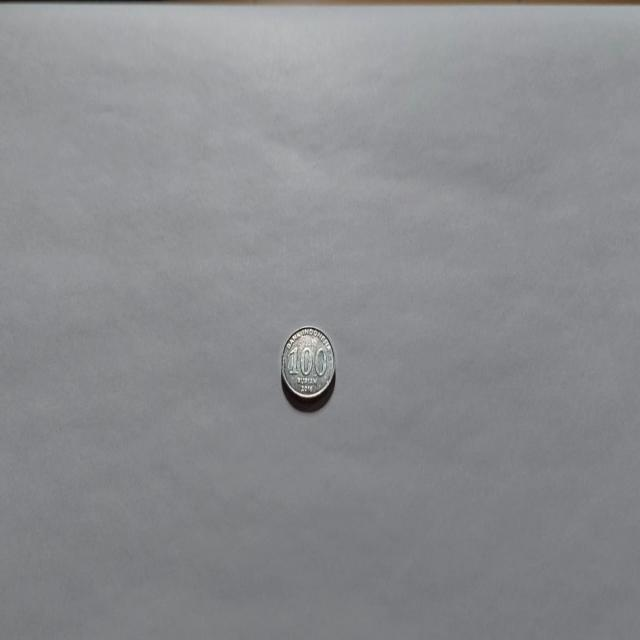seratus rupiah: (280, 324, 336, 406)
